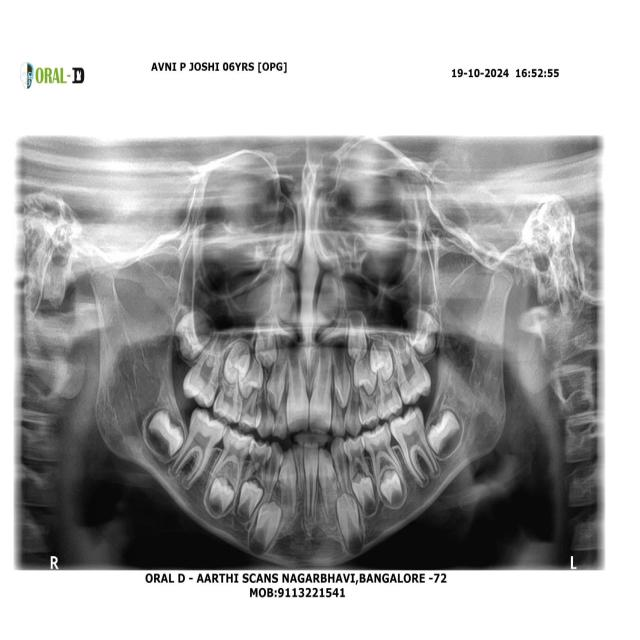Premolars: (339, 435, 380, 492)
